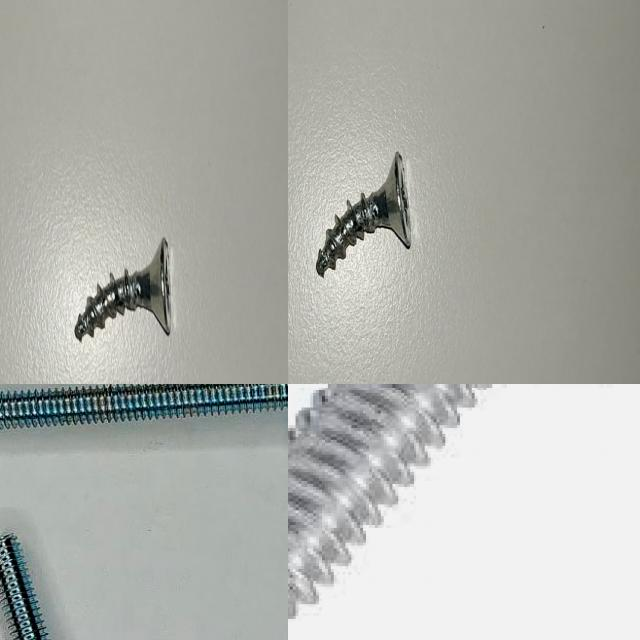Screw: (288, 384, 495, 622), (0, 384, 288, 428), (316, 152, 412, 276), (75, 237, 171, 341), (0, 534, 50, 640)
